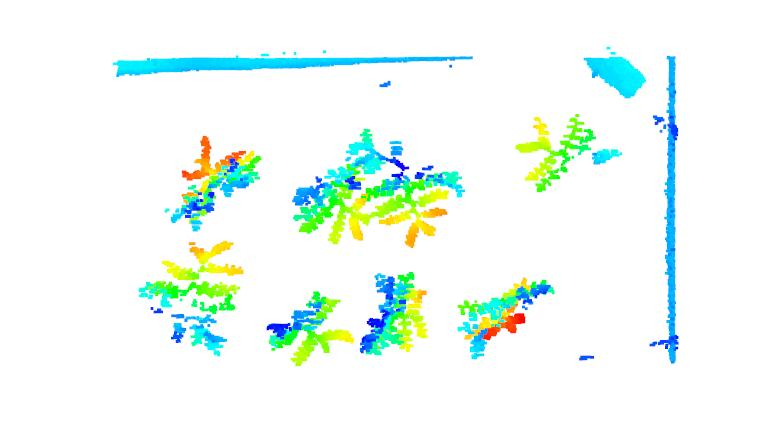chickpea: (356, 130, 465, 247), (141, 238, 244, 357), (164, 135, 264, 228), (452, 276, 555, 359), (264, 289, 356, 367), (514, 110, 596, 191), (360, 266, 427, 359), (294, 161, 365, 246)
